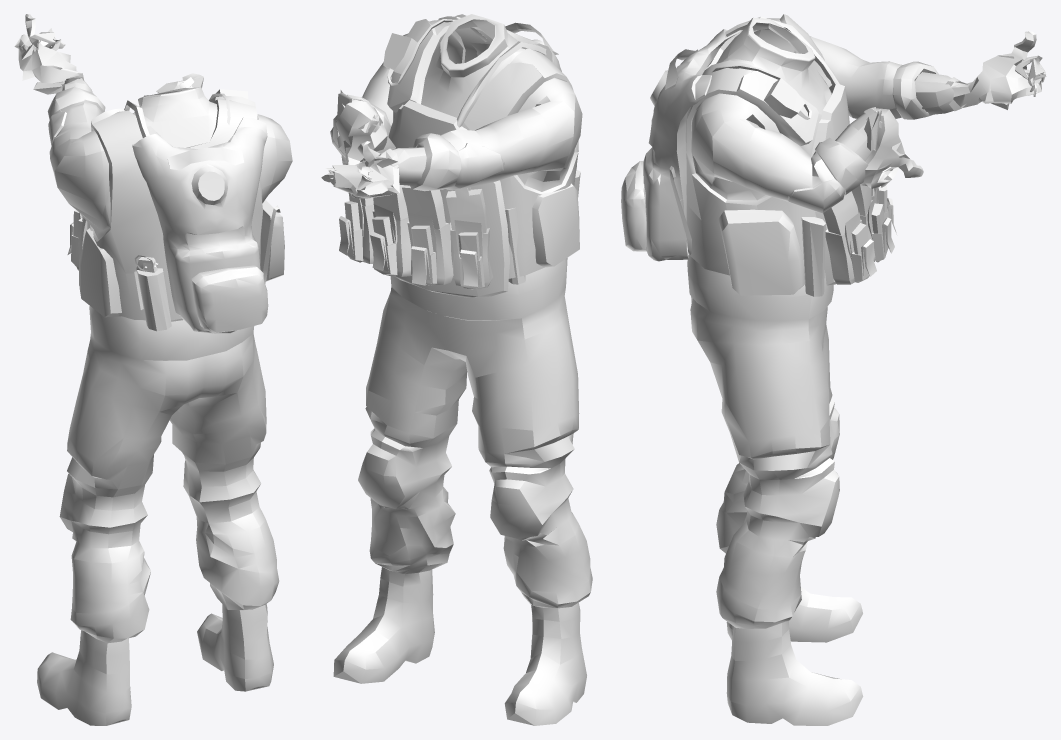
File: stf_mp7.glb
The picture shows the model from 3 angles, left to right: view 1: azimuth 30°, elevation 25°; view 2: azimuth 150°, elevation 25°; view 3: azimuth 270°, elevation 25°; orthographic projection. The views are drawn at different scales.
Parts seen in each view (by area): view 1: body_STF, gear_STF; view 2: body_STF, gear_STF; view 3: body_STF, gear_STF.
Part boxes in pixels (left/top/right/bottom): body_STF: left=14, top=14, right=292, bottom=725; gear_STF: left=67, top=89, right=284, bottom=333; body_STF: left=321, top=14, right=592, bottom=725; gear_STF: left=339, top=14, right=580, bottom=289; body_STF: left=680, top=14, right=1046, bottom=725; gear_STF: left=621, top=16, right=896, bottom=296.
Size of the model in its own units: 59.53 by 164 by 97.35.
Materials: 2 (2 with a texture image).
